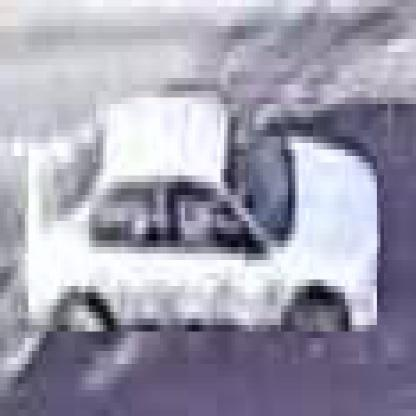car: (26, 92, 378, 339)
